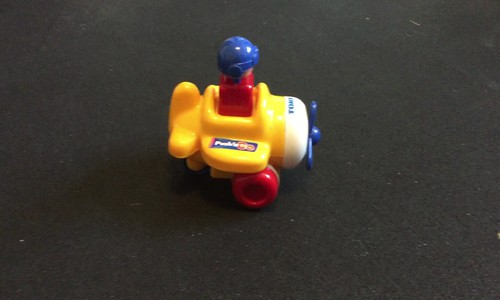toy: (163, 32, 322, 214)
